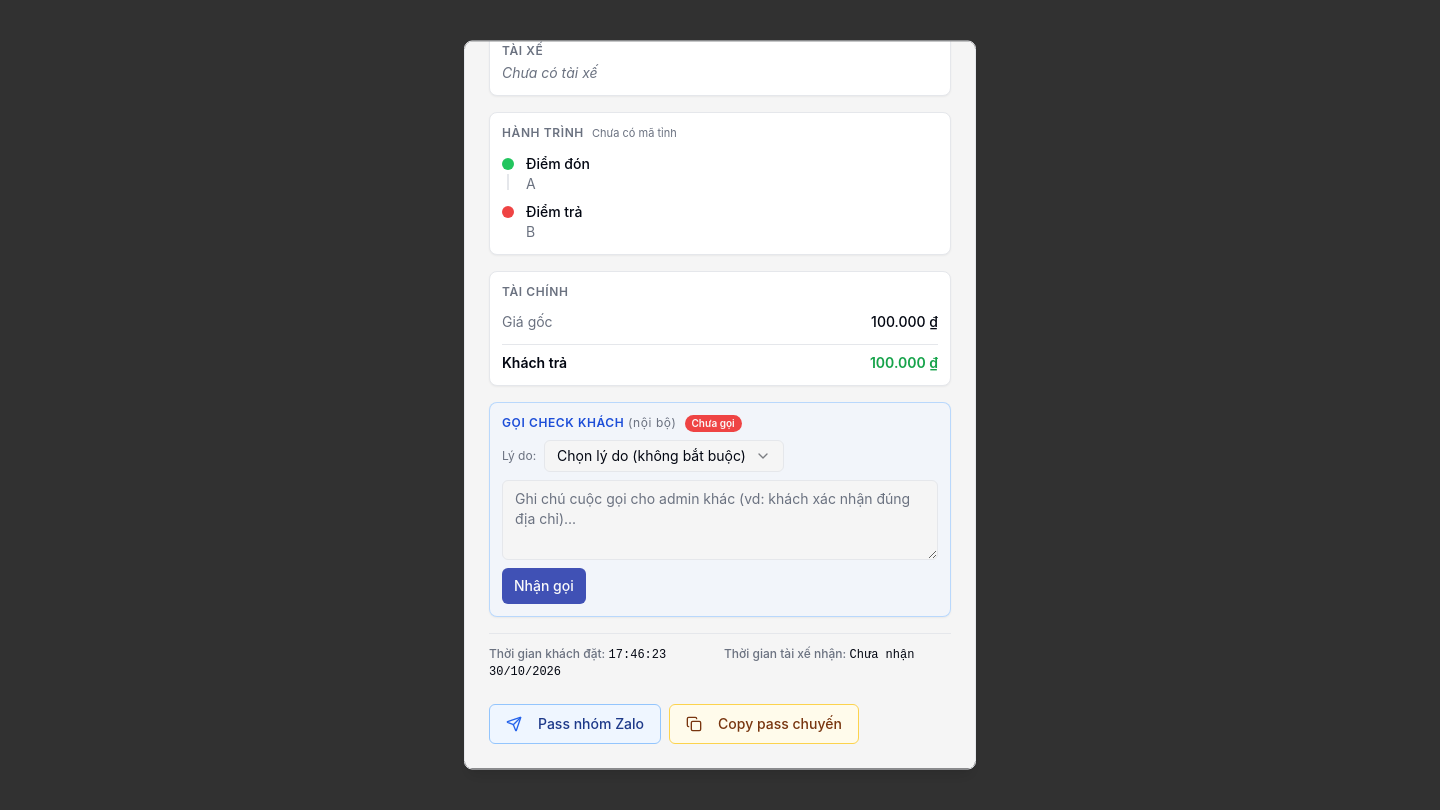
BookingDetail — nhận gọi check khách › nhận bị từ chối (đã có người giữ) → tải lại chi tiết, giữ ghi chú đang gõ
The width and height of the screenshot is (1440, 810).
(page scrolled)
Step 1. Type "khách xác nhận" into the text box with placeholder "Ghi chú cuộc gọi" → (720, 520), box left=502, top=480, right=938, bottom=560
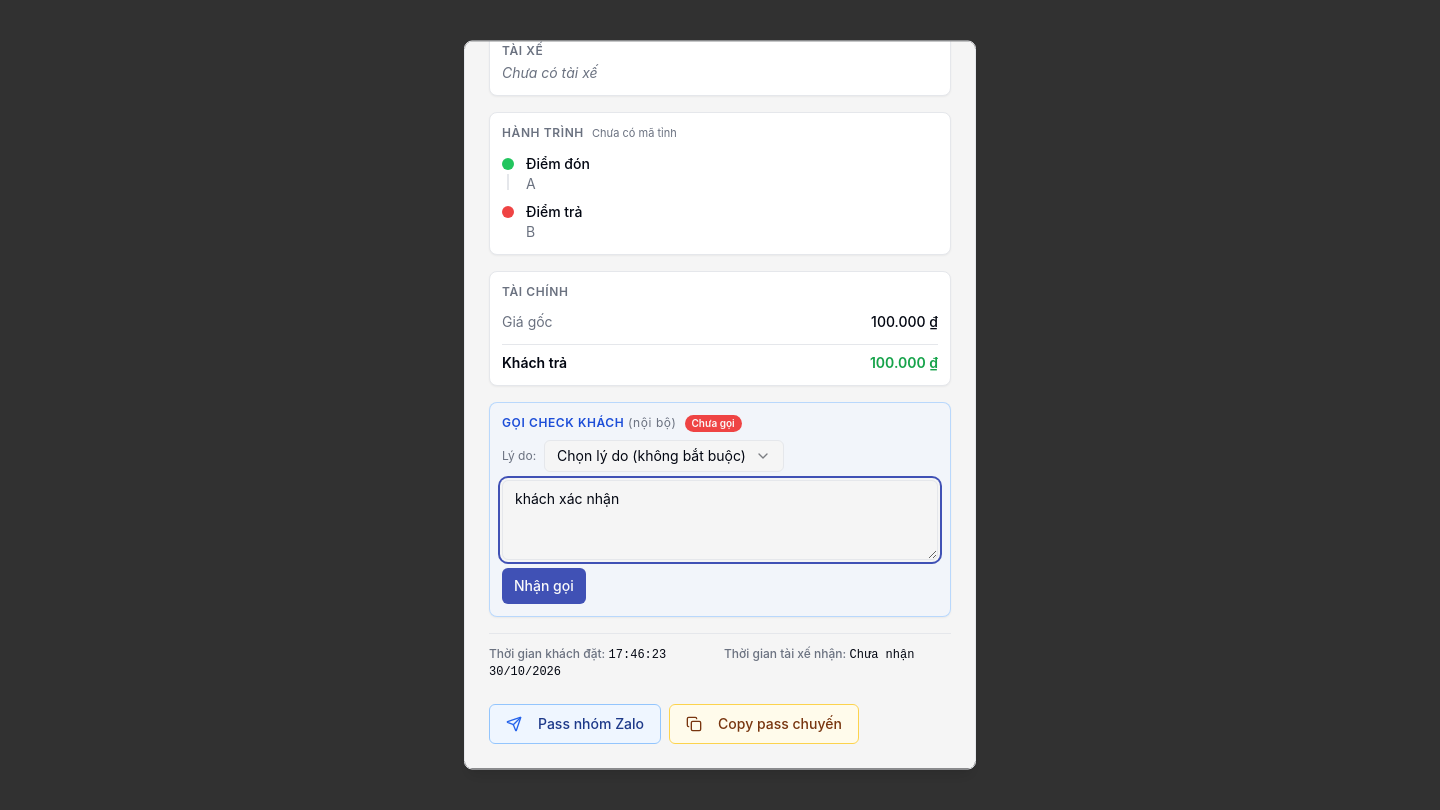
Step 2. Click the button "Nhận gọi" → (544, 586), box left=502, top=568, right=586, bottom=604
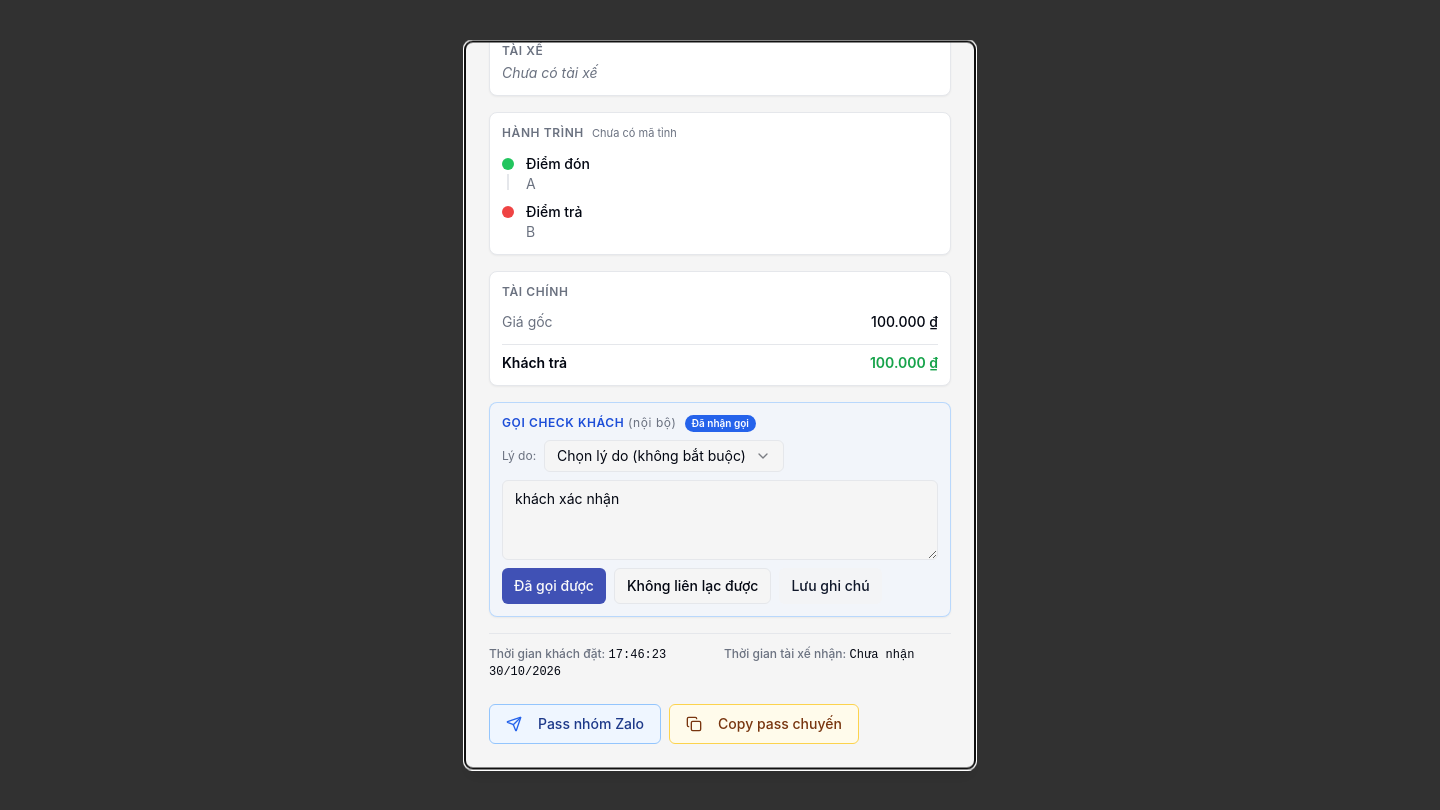
Expected: the button "Đã gọi được" is shown, left=502, top=568, right=606, bottom=604
